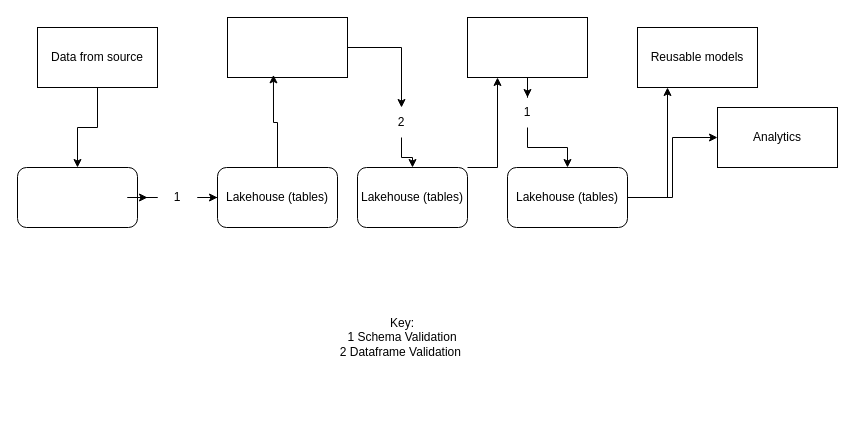
Some shapes in this 855 by 425 pixel diagram are drawn without their labels. The centre of each missing label's shape, as x and y in pixels:
Enrich: pixel 527 47
Lakehouse (files): pixel 77 197
Parse/Clean: pixel 287 47
